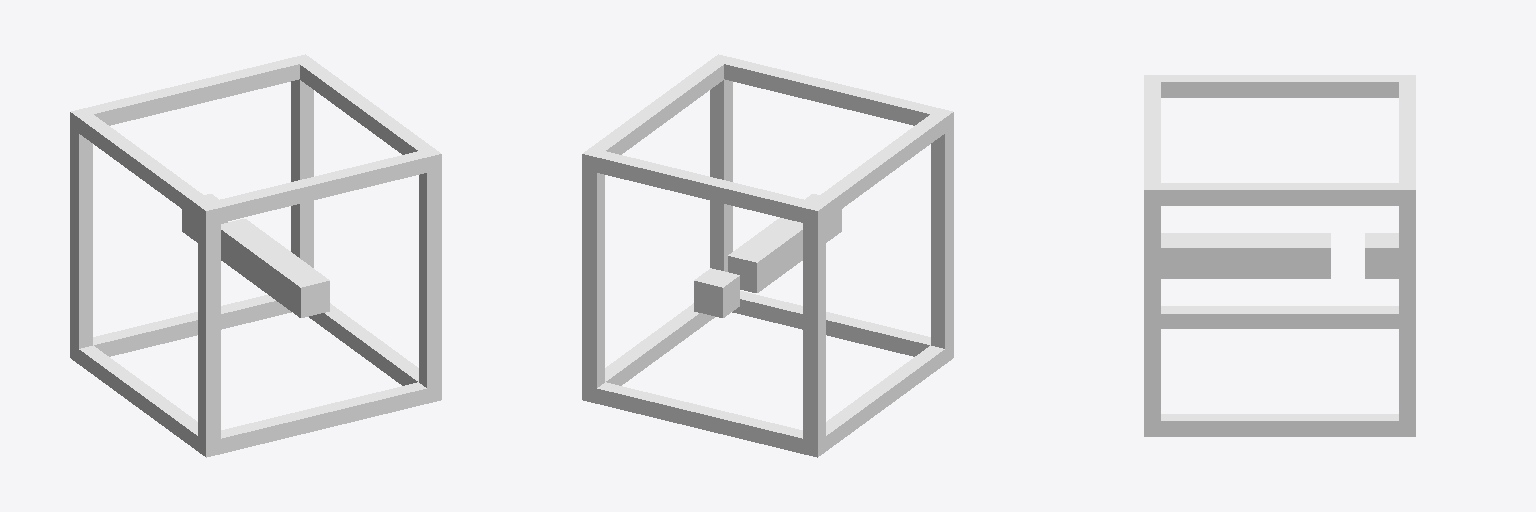
File: ml_blockbase.obj
The picture shows the model from 3 angles: view 1: azimuth 30°, elevation 25°; view 2: azimuth 150°, elevation 25°; view 3: azimuth 270°, elevation 25°; orthographic projection.
Visible parts, largest first — view 1: ml_blockbase; view 2: ml_blockbase; view 3: ml_blockbase.
Boxes of the visible parts, x1,y1,x2,y2 form: ml_blockbase: [70, 54, 441, 457]; ml_blockbase: [582, 54, 953, 457]; ml_blockbase: [1144, 75, 1415, 436].
Size of the model in its own units: 16 by 16 by 16.